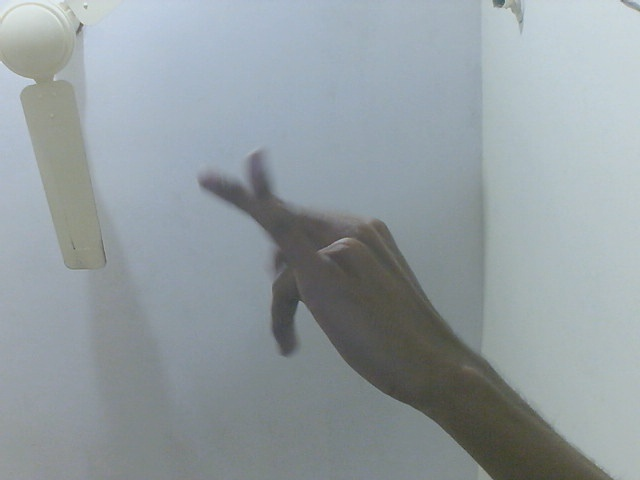hand: (190, 149, 468, 413)
